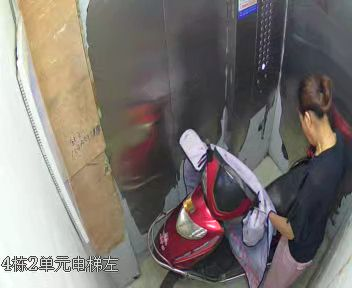Electric-bicycle: (148, 128, 337, 288)
